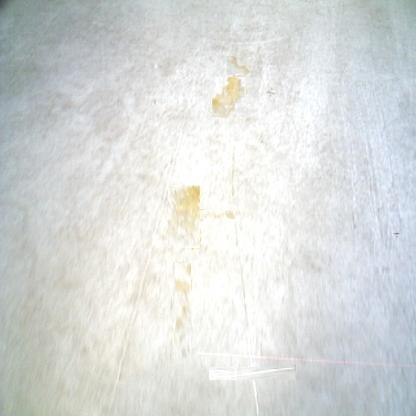liquid: (227, 348, 277, 398), (168, 185, 200, 248), (174, 262, 192, 358), (212, 77, 246, 117), (228, 54, 250, 76), (200, 209, 235, 219)
mark: (267, 88, 275, 97), (394, 231, 400, 238), (152, 97, 156, 106)
